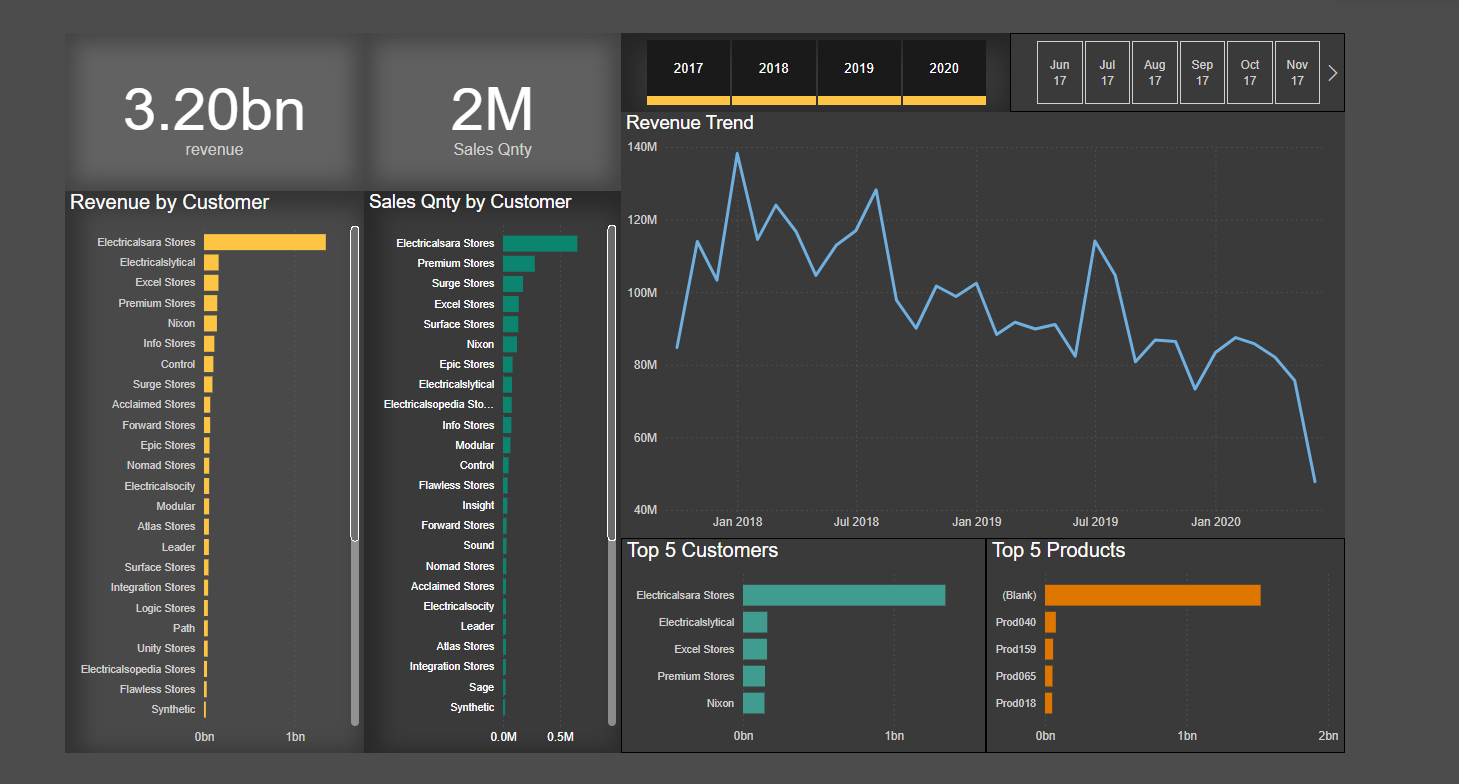

Layout of this report page (visuals, bound fields, positions):
{"tool":"powerbi","page":{"name":"Page 1","canvas":[1280,720],"ordinal":0},"visuals":[{"type":"card","fields":{"Values":["BaseMeasures.revenue"]},"box":[0,0,298.6,157.6],"z":0},{"type":"card","fields":{"Values":["BaseMeasures.Sales Qnty"]},"box":[298.6,0,257.8,157.6],"z":1000},{"type":"barChart","title":"Revenue by Customer","fields":{"Category":["sales customers.custmer_name"],"Y":["BaseMeasures.revenue"]},"box":[0,157.6,298.6,562.2],"z":2000},{"type":"barChart","title":"Sales Qnty by Customer","fields":{"Category":["sales customers.custmer_name"],"Y":["BaseMeasures.Sales Qnty"]},"box":[298.6,157.6,257.8,562.2],"z":3000},{"type":"slicer","fields":{"Values":["sales date.year"]},"box":[556.4,0,389.1,78.8],"z":4000},{"type":"slicer","fields":{"Values":["sales date.cy_date"]},"box":[945.4,0,334.6,78.8],"z":5000},{"type":"barChart","title":"Top 5 Customers","fields":{"Category":["sales customers.custmer_name"],"Y":["BaseMeasures.revenue"]},"box":[556.4,504.8,364.7,215],"z":5001},{"type":"barChart","title":"Top 5 Products","fields":{"Category":["sales products.product_code"],"Y":["BaseMeasures.revenue"]},"box":[921.1,504.8,358.9,215],"z":5002},{"type":"lineChart","title":"Revenue Trend","fields":{"Category":["sales date.cy_date"],"Y":["BaseMeasures.revenue"]},"box":[556.4,78.8,723.6,426],"z":5003}]}

Visuals, with their boxes on the page's 1280x720 design canvas (x1, y1, x2, y2). These are canvas units, not pixel positions in the 1459x784 screenshot, which may show the page scaled, cropped or inside an application window:
card - BaseMeasures.revenue: x1=0 y1=0 x2=299 y2=158
card - BaseMeasures.Sales Qnty: x1=299 y1=0 x2=556 y2=158
"Revenue by Customer" barChart: x1=0 y1=158 x2=299 y2=720
"Sales Qnty by Customer" barChart: x1=299 y1=158 x2=556 y2=720
slicer - sales date.year: x1=556 y1=0 x2=946 y2=79
slicer - sales date.cy_date: x1=945 y1=0 x2=1280 y2=79
"Top 5 Customers" barChart: x1=556 y1=505 x2=921 y2=720
"Top 5 Products" barChart: x1=921 y1=505 x2=1280 y2=720
"Revenue Trend" lineChart: x1=556 y1=79 x2=1280 y2=505
